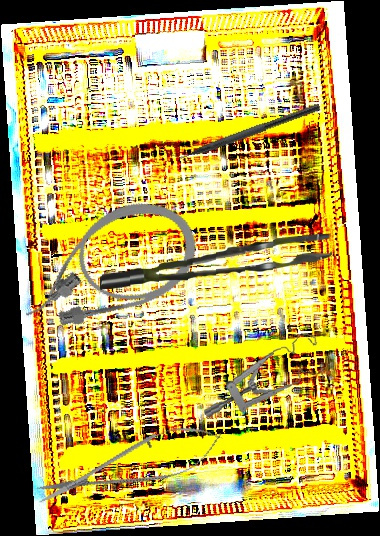Cannula: (2, 185, 211, 347)
Chopper: (162, 92, 322, 169)
Micro Scissor: (28, 412, 230, 520)
Speculum: (196, 331, 329, 418)
Tissue Forceps: (98, 233, 334, 290)
